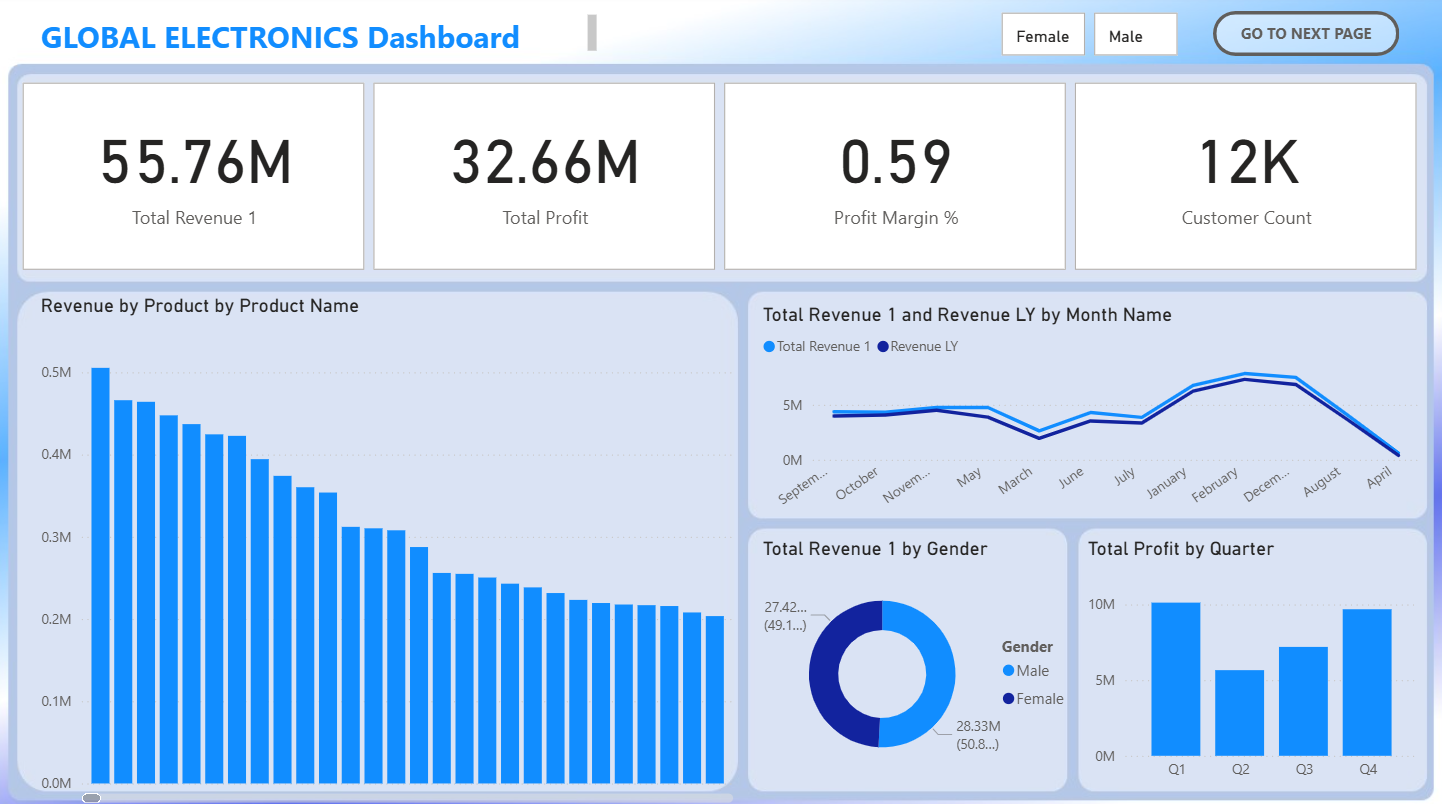

The dashboard page shown, as its layout file describes it:
{"tool":"powerbi","page":{"name":"KPI Overview","canvas":[1280,720],"ordinal":0},"visuals":[{"type":"columnChart","fields":{"Y":["DAX CALC.Revenue by Product"],"Category":["Products.Product Name"]},"box":[32,264,624,456],"z":0},{"type":"lineChart","fields":{"Y":["DAX CALC.Total Revenue 1","DAX CALC.Revenue LY"],"Category":["Calendar.Month Name"]},"box":[672,272,592,192],"z":1000},{"type":"cardVisual","fields":{"Data":["DAX CALC.Total Revenue 1","DAX CALC.Total Profit","DAX CALC.Profit Margin %","DAX CALC.Customer Count"]},"box":[16,72,1248,176],"z":2000},{"type":"donutChart","fields":{"Category":["Customers.Gender"],"Y":["DAX CALC.Total Revenue 1"]},"box":[672,480,288,224],"z":3000},{"type":"clusteredColumnChart","fields":{"Y":["DAX CALC.Total Profit"],"Category":["Calendar.Quarter"]},"box":[960,480,304,224],"z":4000},{"type":"textbox","box":[32.1,11.7,502.9,43.8],"z":4001},{"type":"actionButton","box":[1076.7,13.6,165.3,39.9],"z":4002},{"type":"advancedSlicerVisual","fields":{"Values":["Customers.Gender"]},"box":[884.1,9.7,167.3,48.6],"z":4003}]}

Visuals, with their boxes in screenshot pixels (x1, y1, x2, y2), scaled from the page's 1280x720 canvas onto the 1442x804 screenshot:
columnChart - DAX CALC.Revenue by Product x Products.Product Name: (left=36, top=295, right=739, bottom=803)
lineChart - DAX CALC.Total Revenue 1 x DAX CALC.Revenue LY: (left=757, top=304, right=1424, bottom=518)
cardVisual - DAX CALC.Total Revenue 1 x DAX CALC.Total Profit: (left=18, top=80, right=1424, bottom=277)
donutChart - Customers.Gender x DAX CALC.Total Revenue 1: (left=757, top=536, right=1082, bottom=786)
clusteredColumnChart - DAX CALC.Total Profit x Calendar.Quarter: (left=1082, top=536, right=1424, bottom=786)
textbox: (left=36, top=13, right=603, bottom=62)
actionButton: (left=1213, top=15, right=1399, bottom=60)
advancedSlicerVisual - Customers.Gender: (left=996, top=11, right=1184, bottom=65)
